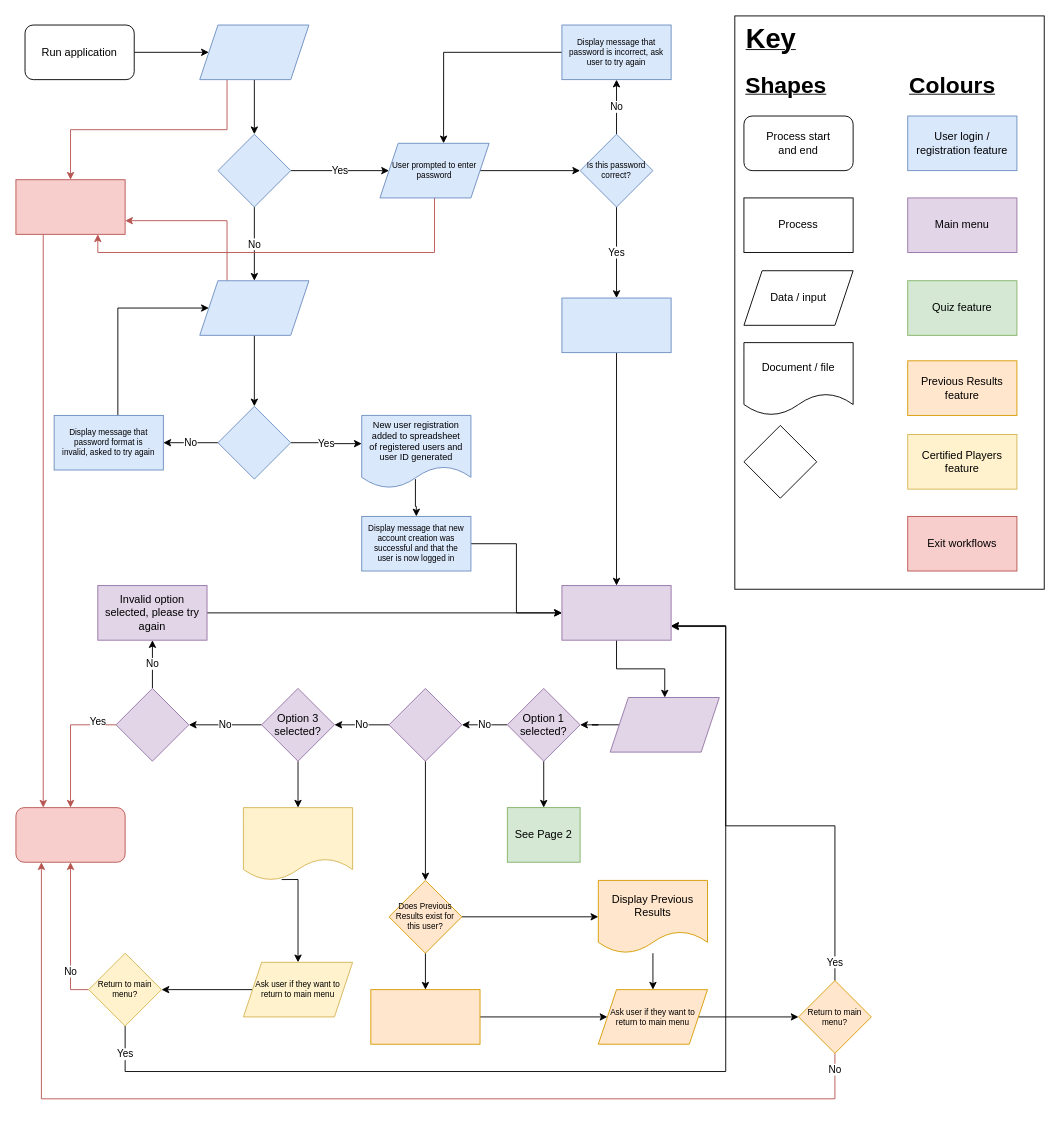
The diagram is 1060 pixels wide and 1122 high, and some of its shapes have lost their labels. Each missing label, with the box of its shape:
Decision: (743, 425, 817, 498)
Display Certified Players: (243, 807, 353, 880)
Display main menu to user: (561, 585, 671, 640)
Display message that login was successful: (561, 297, 671, 353)
Display message that no previous results exist: (370, 989, 480, 1044)
Does user have existing account?: (217, 133, 291, 207)
Is password in a valid format?: (217, 405, 291, 479)
Option 2 selected?: (388, 688, 462, 761)
Option 4 selected?: (115, 688, 189, 761)
Thank you message displayed, application exits gracefully: (15, 807, 125, 862)
User enters quit prompt: (15, 179, 125, 234)
User prompted to enter email address: (199, 24, 309, 80)
User prompted to set new password: (199, 280, 309, 335)
User selects option from main menu: (609, 697, 719, 752)
